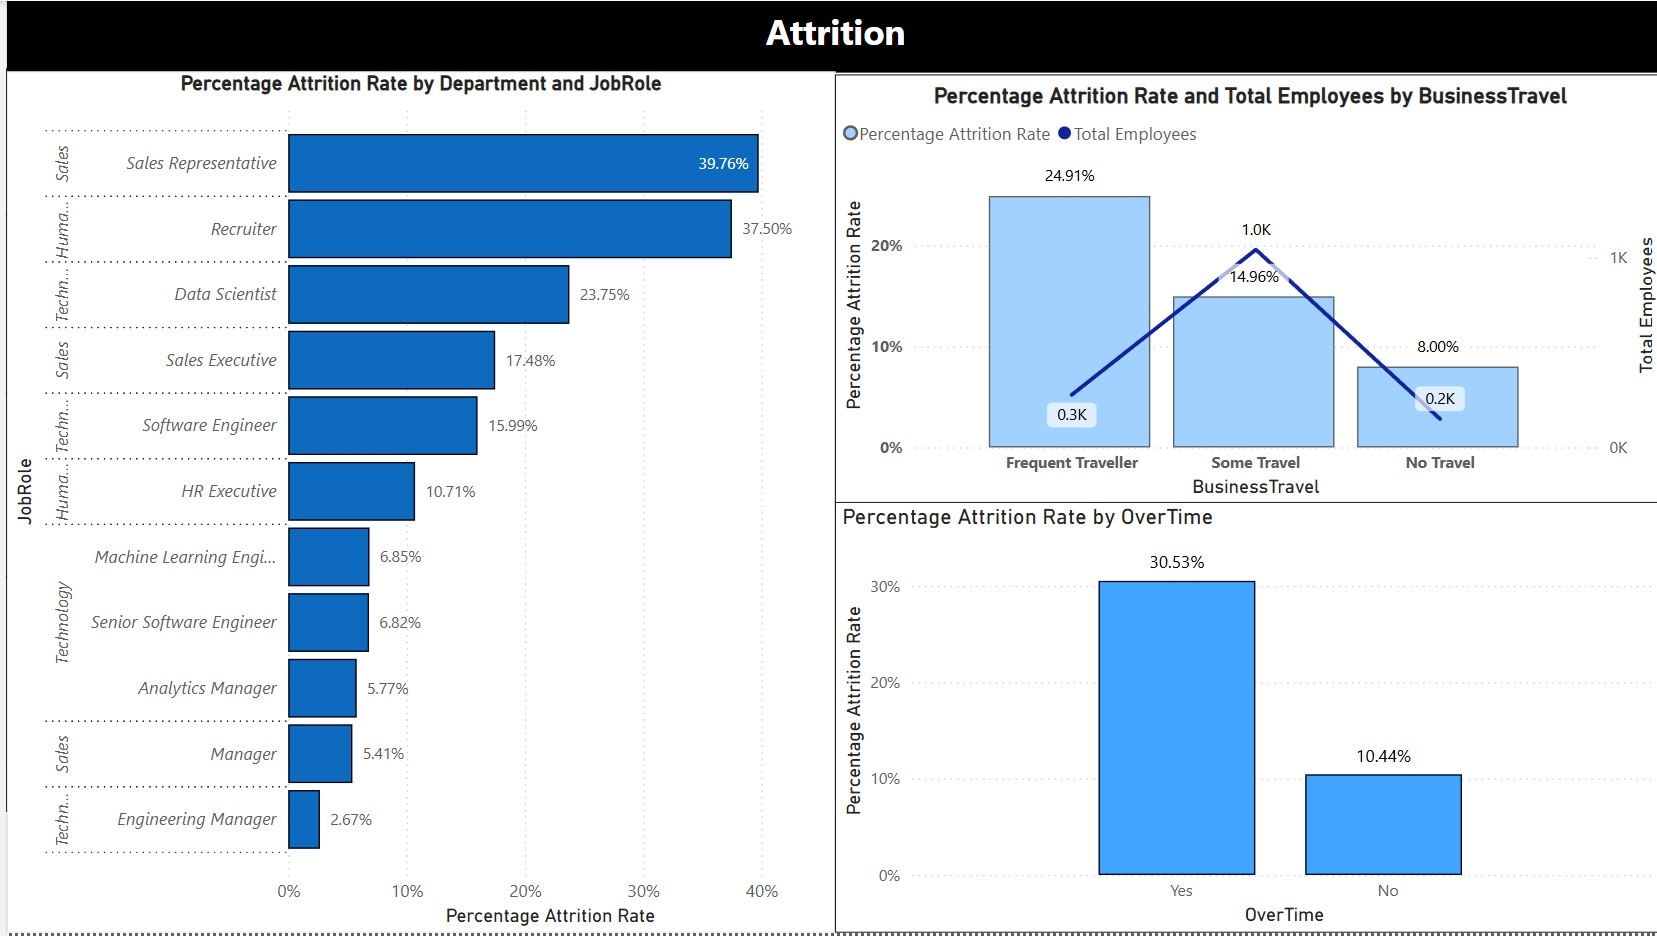

The dashboard page shown, as its layout file describes it:
{"tool":"powerbi","page":{"name":"Attrition","canvas":[1280,720],"ordinal":1},"visuals":[{"type":"textbox","box":[0,0,1280,55],"z":0},{"type":"clusteredBarChart","fields":{"Y":["_Measures.Percentage Attrition Rate"],"Category":["Employee.Department","Employee.JobRole"]},"box":[0,55,640,665],"z":1000},{"type":"lineStackedColumnComboChart","fields":{"Category":["Employee.BusinessTravel"],"Y":["_Measures.Percentage Attrition Rate"],"Y2":["_Measures.Total Employees"]},"box":[639.6,57,640.8,332.6],"z":2000},{"type":"clusteredColumnChart","fields":{"Category":["Employee.OverTime"],"Y":["_Measures.Percentage Attrition Rate"]},"box":[639.6,387,640.8,332.6],"z":3000}]}

Visuals, with their boxes in screenshot pixels (x1, y1, x2, y2), scaled from the page's 1280x720 canvas onto the 1657x936 screenshot:
textbox: bbox=[0, 0, 1656, 72]
clusteredBarChart - _Measures.Percentage Attrition Rate x Employee.Department: bbox=[0, 72, 828, 935]
lineStackedColumnComboChart - Employee.BusinessTravel x _Measures.Percentage Attrition Rate: bbox=[828, 74, 1656, 506]
clusteredColumnChart - Employee.OverTime x _Measures.Percentage Attrition Rate: bbox=[828, 503, 1656, 935]
